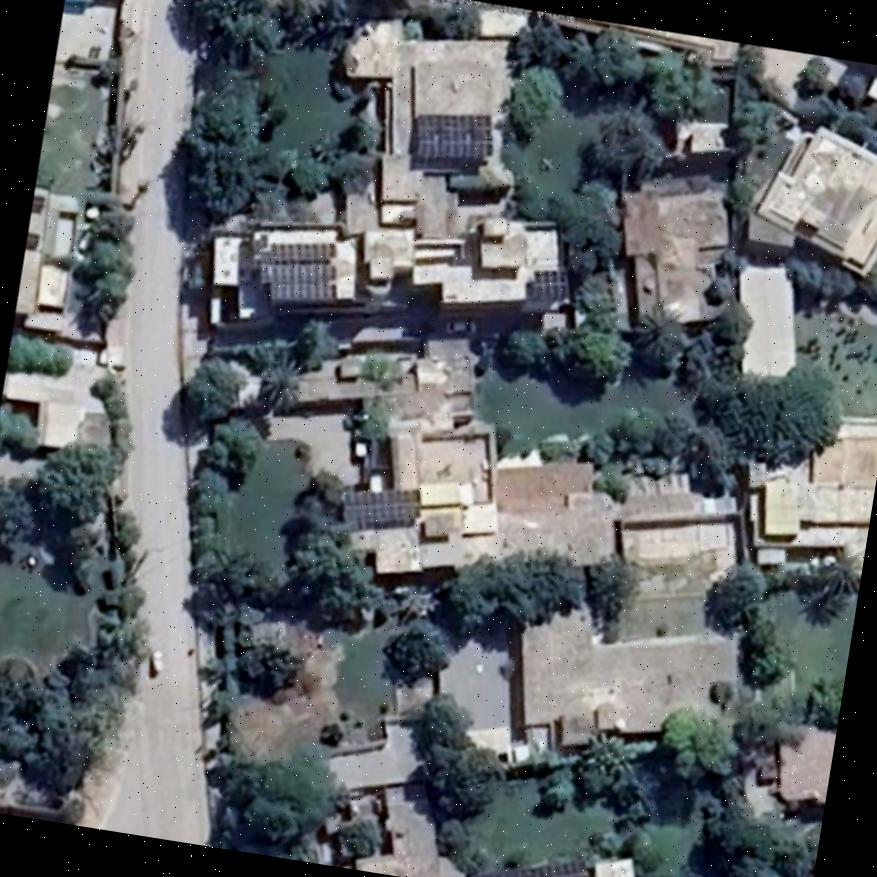Solarpanel: (416, 115, 491, 157), (340, 489, 420, 527), (466, 861, 593, 877), (271, 242, 333, 262), (272, 280, 334, 299), (266, 262, 334, 279), (529, 270, 570, 294)
